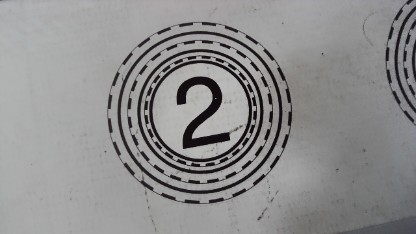2r: (103, 19, 292, 204)
